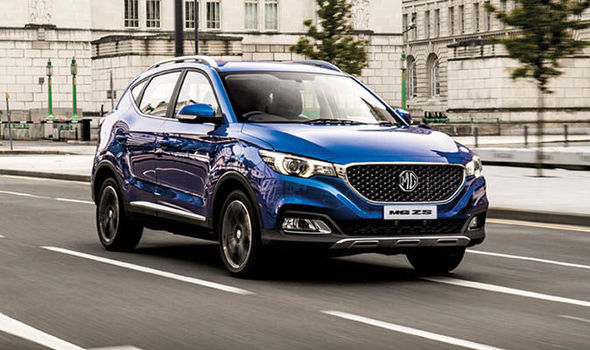pickup: (89, 53, 488, 280)
